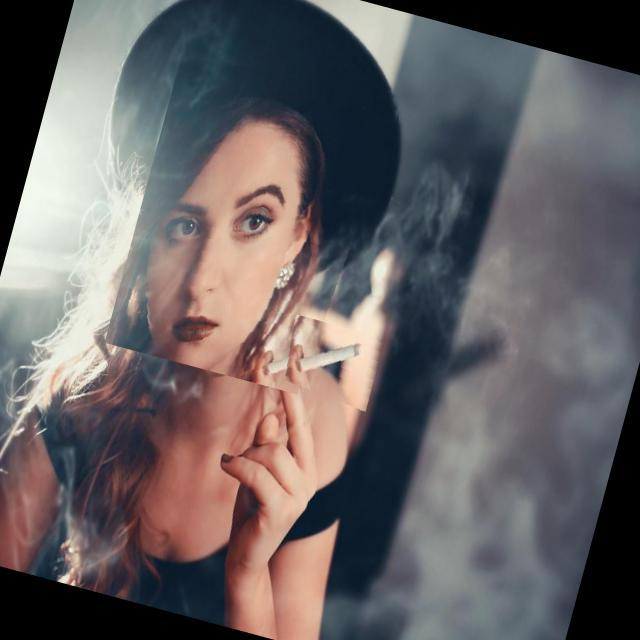cigarette: (274, 313, 386, 412)
